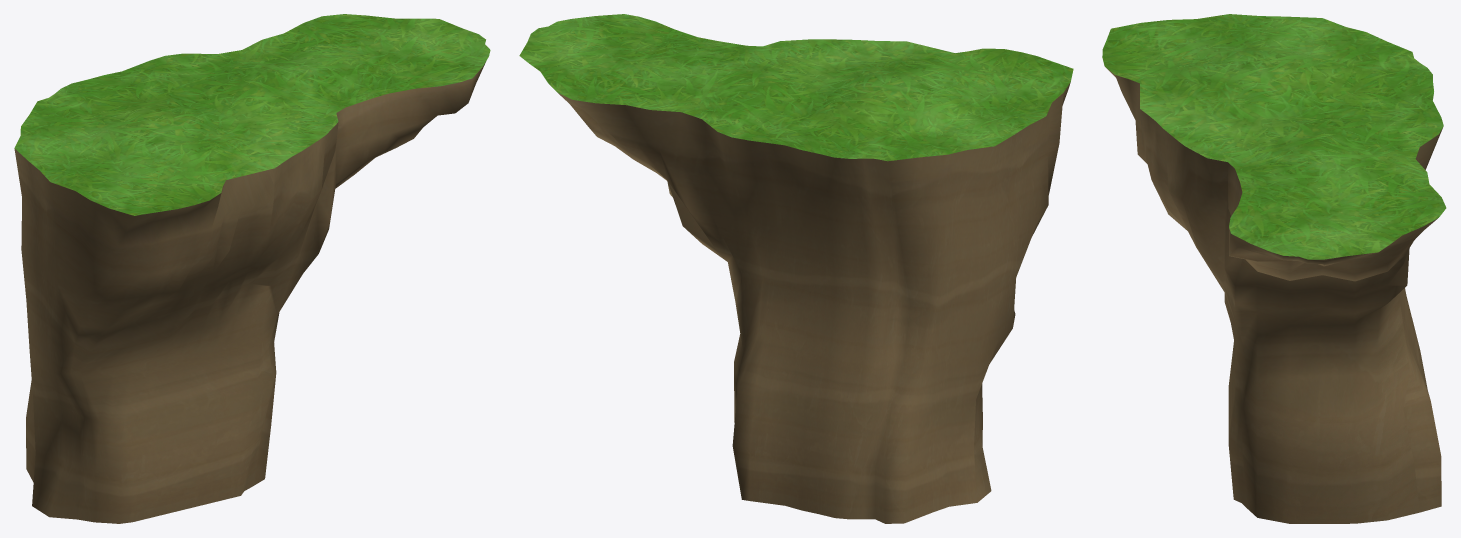
File: lvl1_plat017.FBX
3 renders of one model, left to right at view 1: azimuth 30°, elevation 25°; view 2: azimuth 150°, elevation 25°; view 3: azimuth 270°, elevation 25°, orthographic. The views are drawn at different scales.
Parts seen in each view (by area): view 1: lvl1_plat_017, lvl1_plat_017_grass; view 2: lvl1_plat_017, lvl1_plat_017_grass; view 3: lvl1_plat_017, lvl1_plat_017_grass.
Part boxes in pixels (x1,y1,x2,y2): lvl1_plat_017: (14, 62, 485, 523); lvl1_plat_017_grass: (14, 14, 490, 215); lvl1_plat_017: (558, 82, 1070, 523); lvl1_plat_017_grass: (519, 14, 1073, 161); lvl1_plat_017: (1105, 67, 1442, 523); lvl1_plat_017_grass: (1102, 14, 1446, 259).
Size of the model in its own units: 2067 by 1547 by 1224.
